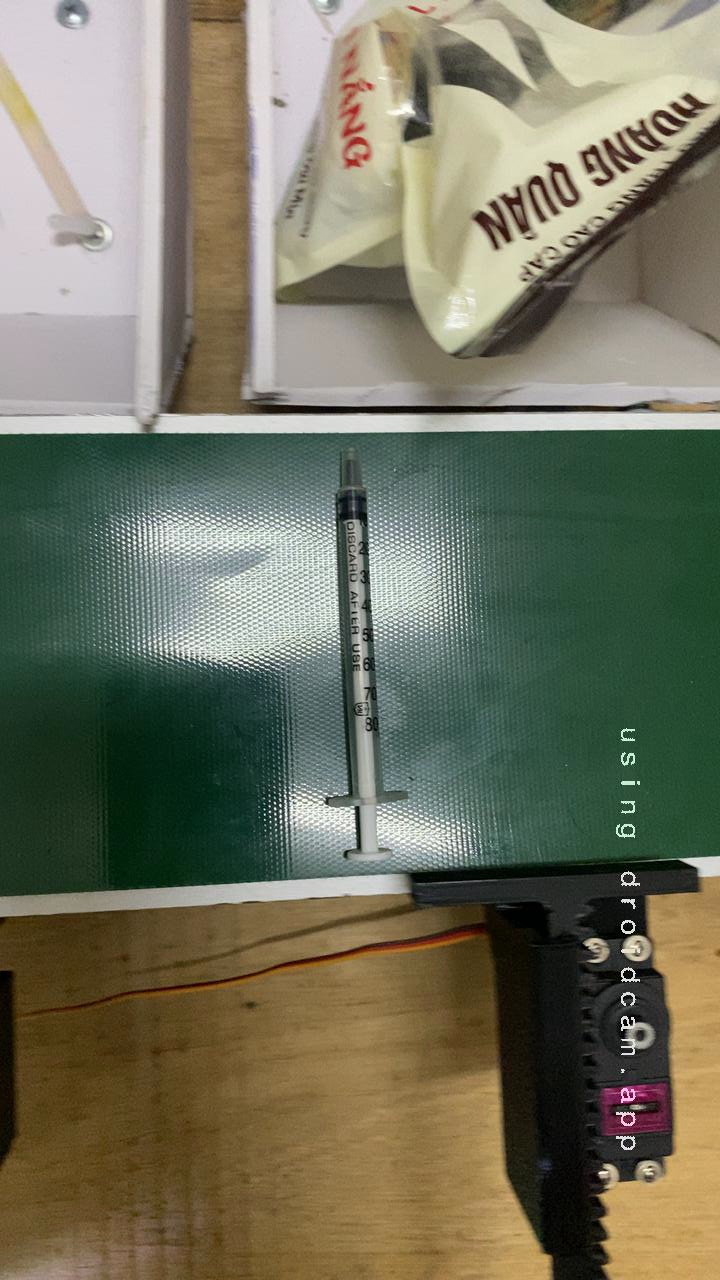syringe: (302, 462, 411, 812)
